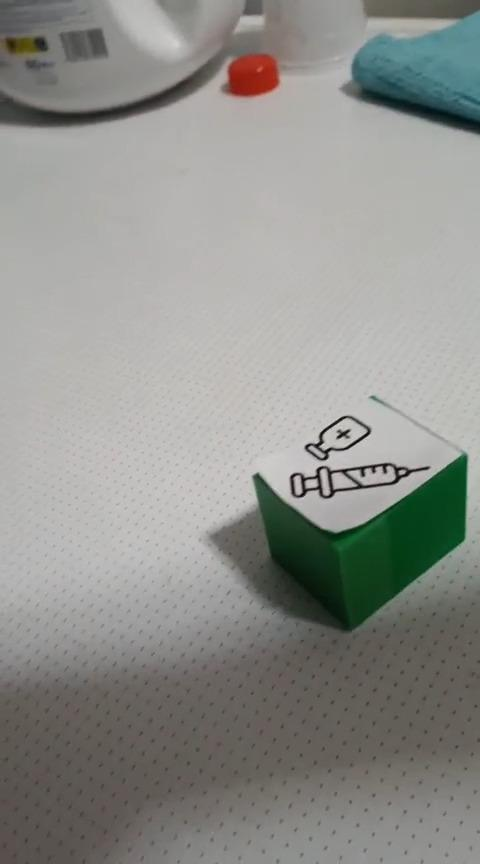antiseptic cream: (250, 392, 468, 631)
